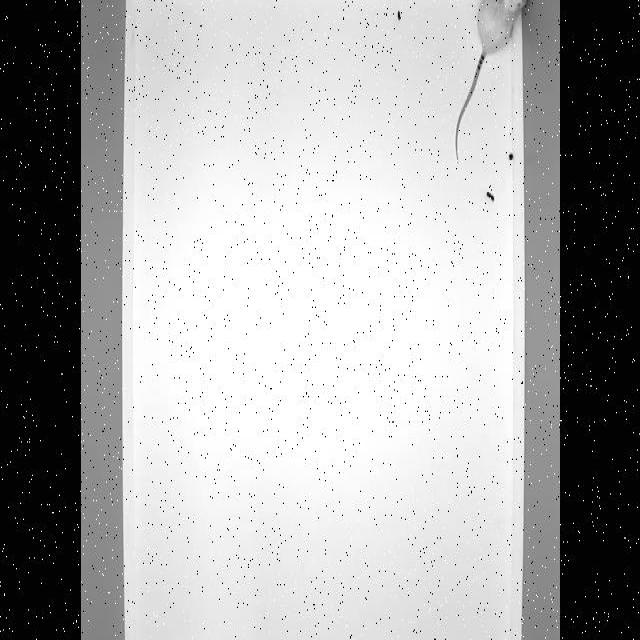rat: (454, 0, 528, 164)
